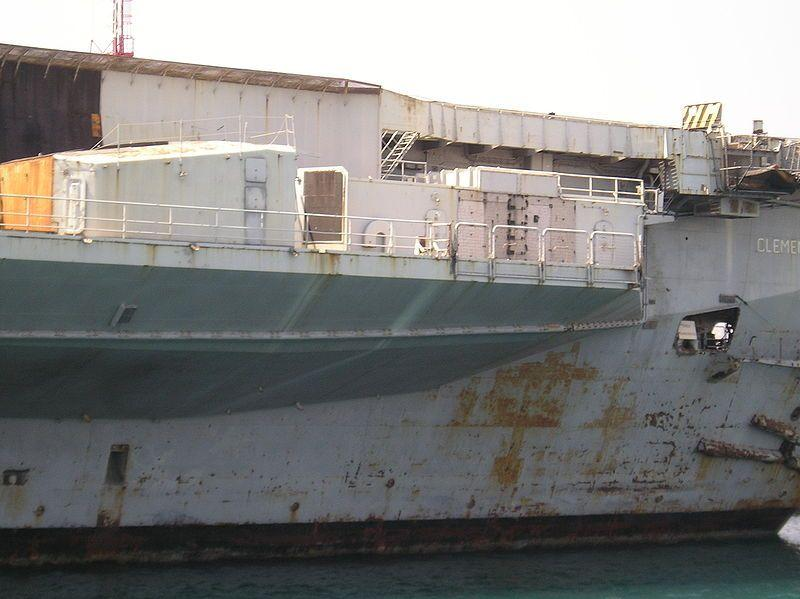rust: (474, 369, 545, 487), (307, 171, 353, 248), (95, 459, 139, 532)
